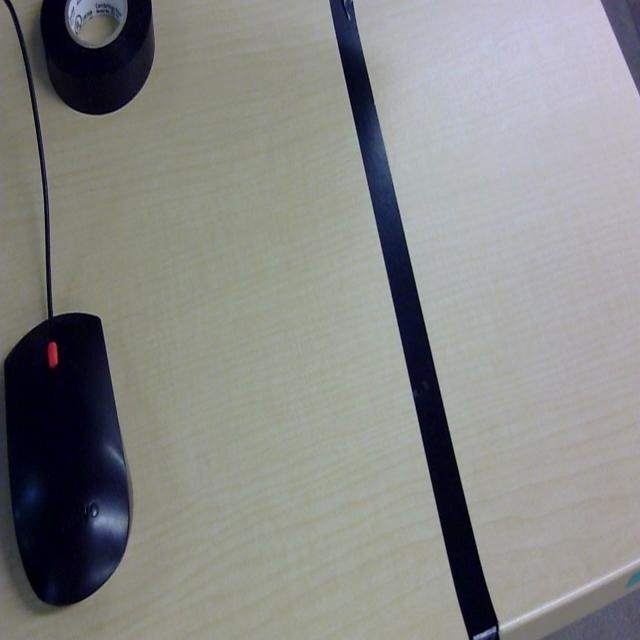tape: (329, 2, 500, 633)
